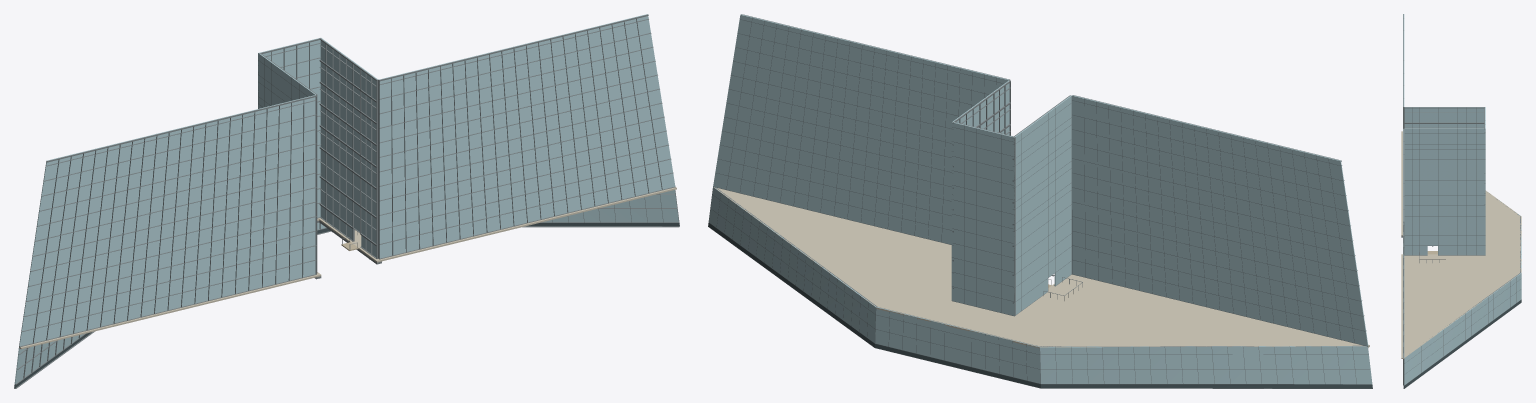
The model's file is G7_Completion_Prior_G7C2_Fore_Architecture_r002.glb.
3 renders of one model, left to right at view 1: azimuth 30°, elevation 25°; view 2: azimuth 150°, elevation 25°; view 3: azimuth 270°, elevation 25°, orthographic. The views are drawn at different scales.
Visible parts, largest first — view 1: G7C2_Fore_glass_solid_skin, G7C2_Fore_metal_solid_frame, G7C2_Fore_roof_solid_roof, G7C2_Fore_shell_solid_skin, G7C2_Fore_metal_solid_skin; view 2: G7C2_Fore_glass_solid_skin, G7C2_Fore_roof_solid_roof, G7C2_Fore_metal_solid_skin, G7C2_Fore_metal_solid_frame, G7C2_Fore_shell_solid_skin; view 3: G7C2_Fore_glass_solid_skin, G7C2_Fore_roof_solid_roof, G7C2_Fore_metal_solid_skin, G7C2_Fore_metal_solid_frame, G7C2_Fore_shell_solid_skin.
Boxes of the visible parts, bbox=[...] form: G7C2_Fore_glass_solid_skin: bbox=[14, 14, 678, 383]; G7C2_Fore_metal_solid_frame: bbox=[14, 14, 679, 388]; G7C2_Fore_roof_solid_roof: bbox=[19, 187, 676, 349]; G7C2_Fore_shell_solid_skin: bbox=[14, 223, 679, 388]; G7C2_Fore_metal_solid_skin: bbox=[16, 52, 378, 369]; G7C2_Fore_glass_solid_skin: bbox=[709, 14, 1372, 384]; G7C2_Fore_roof_solid_roof: bbox=[714, 187, 1369, 348]; G7C2_Fore_metal_solid_skin: bbox=[708, 17, 1371, 384]; G7C2_Fore_metal_solid_frame: bbox=[708, 14, 1372, 388]; G7C2_Fore_shell_solid_skin: bbox=[708, 223, 1372, 388]; G7C2_Fore_glass_solid_skin: bbox=[1403, 14, 1521, 385]; G7C2_Fore_roof_solid_roof: bbox=[1401, 131, 1521, 358]; G7C2_Fore_metal_solid_skin: bbox=[1403, 107, 1521, 385]; G7C2_Fore_metal_solid_frame: bbox=[1401, 14, 1520, 388]; G7C2_Fore_shell_solid_skin: bbox=[1403, 300, 1521, 388].
Bounding box in the file's own units: 144 × 45.5 × 31.8.
Materials: 6 (5 with a texture image).
